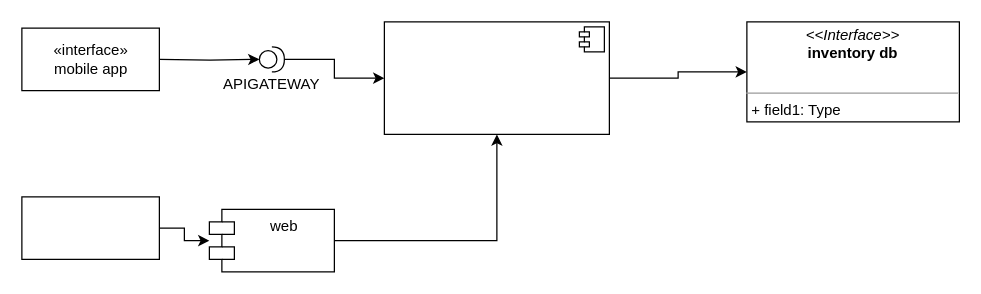
The diagram is 981 pixels wide and 294 high, and some of its shapes have lost their labels. The centre of each missing label's shape, as x and y in pixels:
"inventory + Attribute1: Type + Attribute2: Type" goes at (496,77).
"«interface» browser" goes at (90,227).
